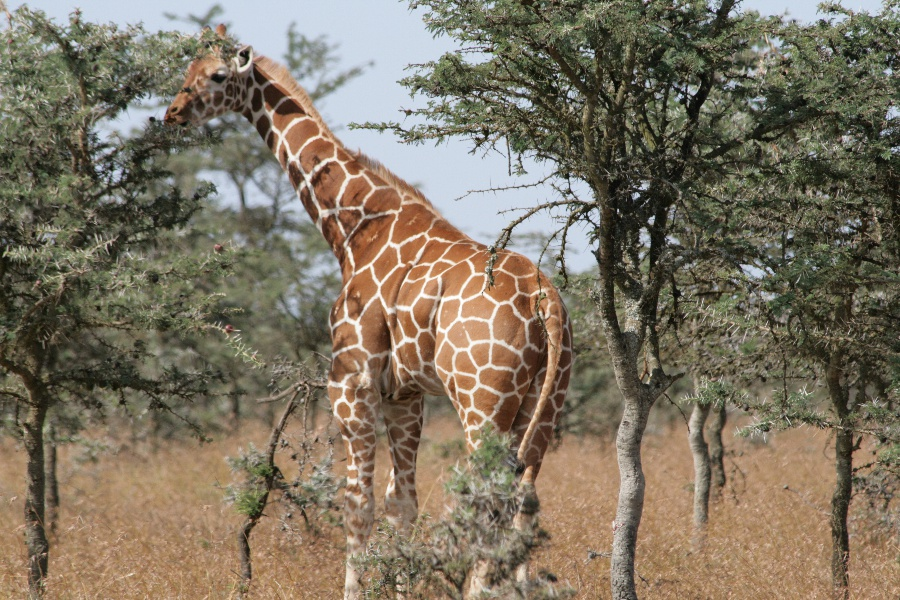giraffe: (159, 21, 591, 598)
